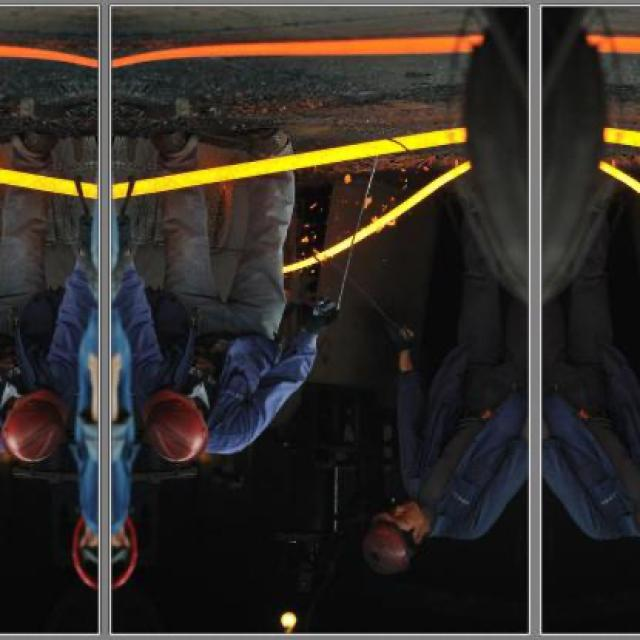con casco: (138, 348, 292, 468), (357, 479, 482, 584), (0, 371, 92, 483)
